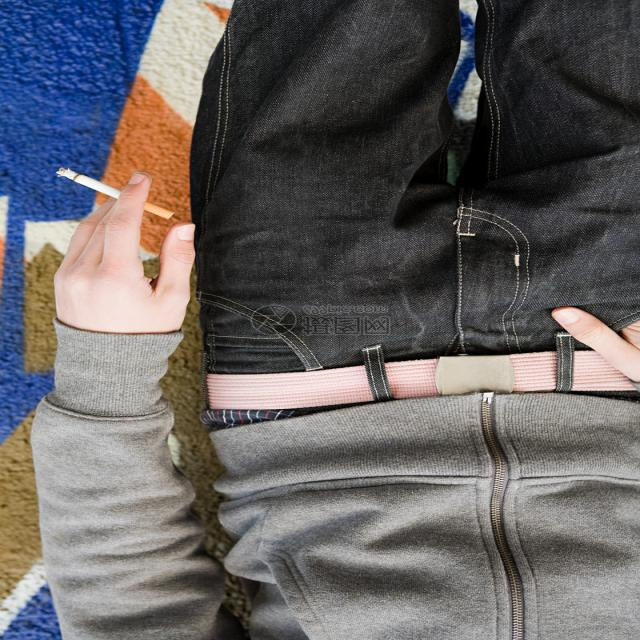smoke: (41, 161, 181, 232)
